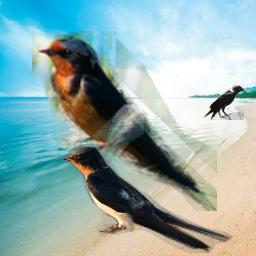Crow: (202, 84, 244, 120)
Swallow: (32, 31, 217, 211), (58, 141, 233, 253)
